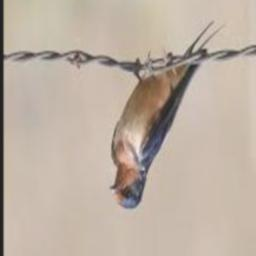Swallow: (109, 23, 225, 209)
